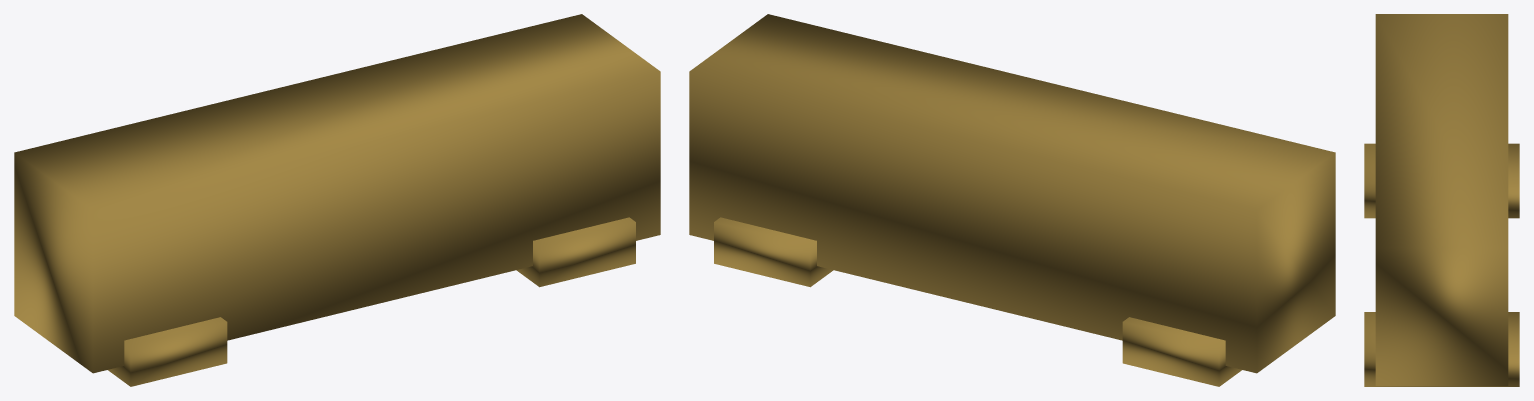
Rendered from SM_Prop_CairoBarrier_A_LOD1.obj.
3 renders of one model, left to right at view 1: azimuth 30°, elevation 25°; view 2: azimuth 150°, elevation 25°; view 3: azimuth 270°, elevation 25°, orthographic. The views are drawn at different scales.
Parts seen in each view (by area): view 1: SM_Prop_CairoBarrier_A_LOD1; view 2: SM_Prop_CairoBarrier_A_LOD1; view 3: SM_Prop_CairoBarrier_A_LOD1.
Part boxes in pixels (left/top/right/bottom): SM_Prop_CairoBarrier_A_LOD1: left=14, top=14, right=660, bottom=386; SM_Prop_CairoBarrier_A_LOD1: left=689, top=14, right=1335, bottom=386; SM_Prop_CairoBarrier_A_LOD1: left=1364, top=14, right=1519, bottom=386.
Bounding box in the file's own units: 2 × 0.605 × 0.56.
Materials: 1 (1 with a texture image).
